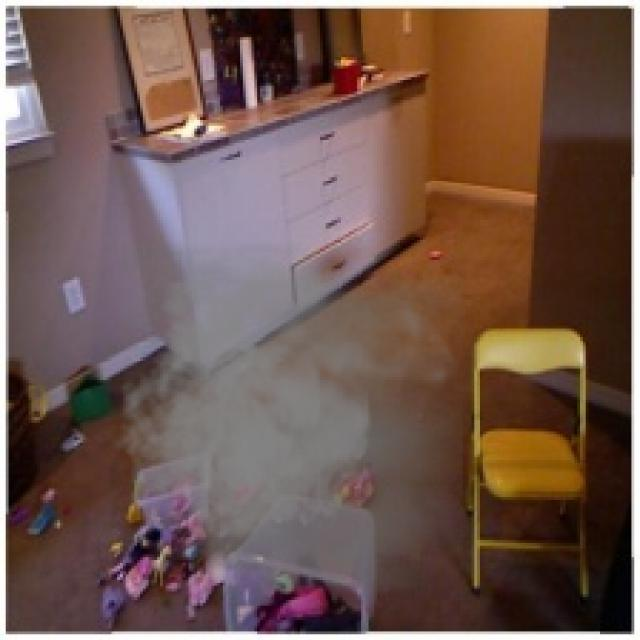smoke: (111, 243, 463, 594)
